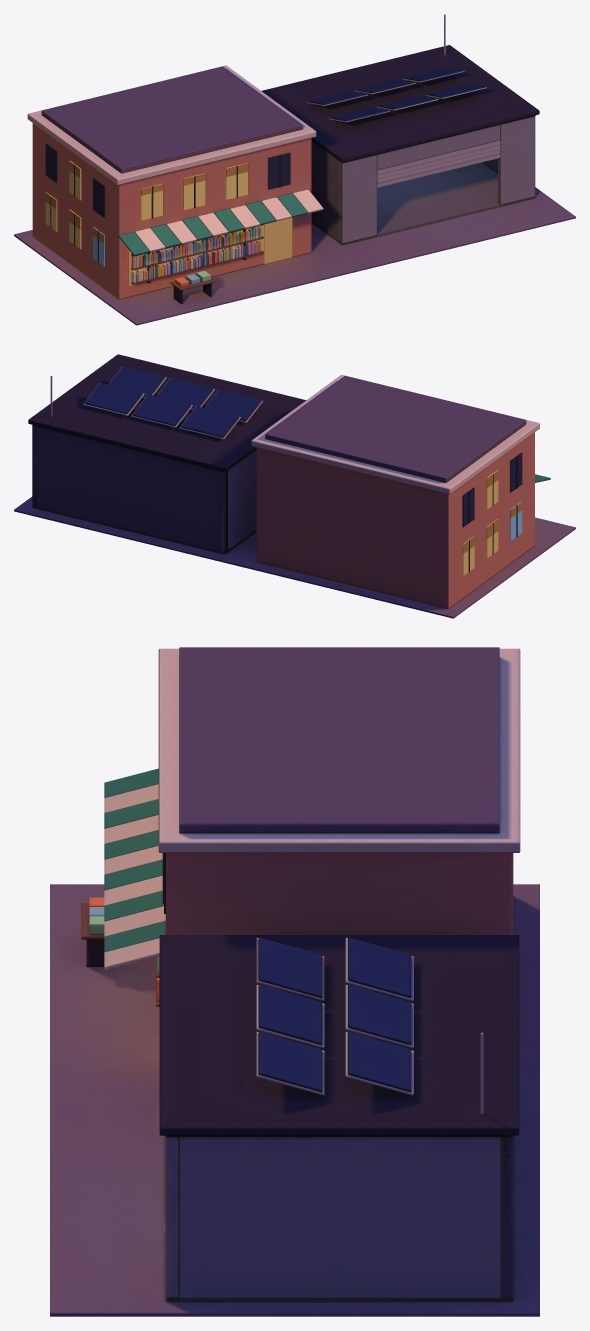
The model's file is interests.glb.
3 renders of one model, top to bottom at view 1: azimuth 30°, elevation 25°; view 2: azimuth 150°, elevation 25°; view 3: azimuth 270°, elevation 25°, orthographic. The views are drawn at different scales.
Parts seen in each view (by area): view 1: interests; view 2: interests; view 3: interests.
Boxes of the visible parts, box(x1,y1,x2,y2) form: interests: box(14, 14, 575, 325); interests: box(14, 354, 575, 618); interests: box(50, 647, 539, 1316).
Bounding box in the file's own units: 11.4 × 3.23 × 5.5.
Materials: 1 (1 with a texture image).
